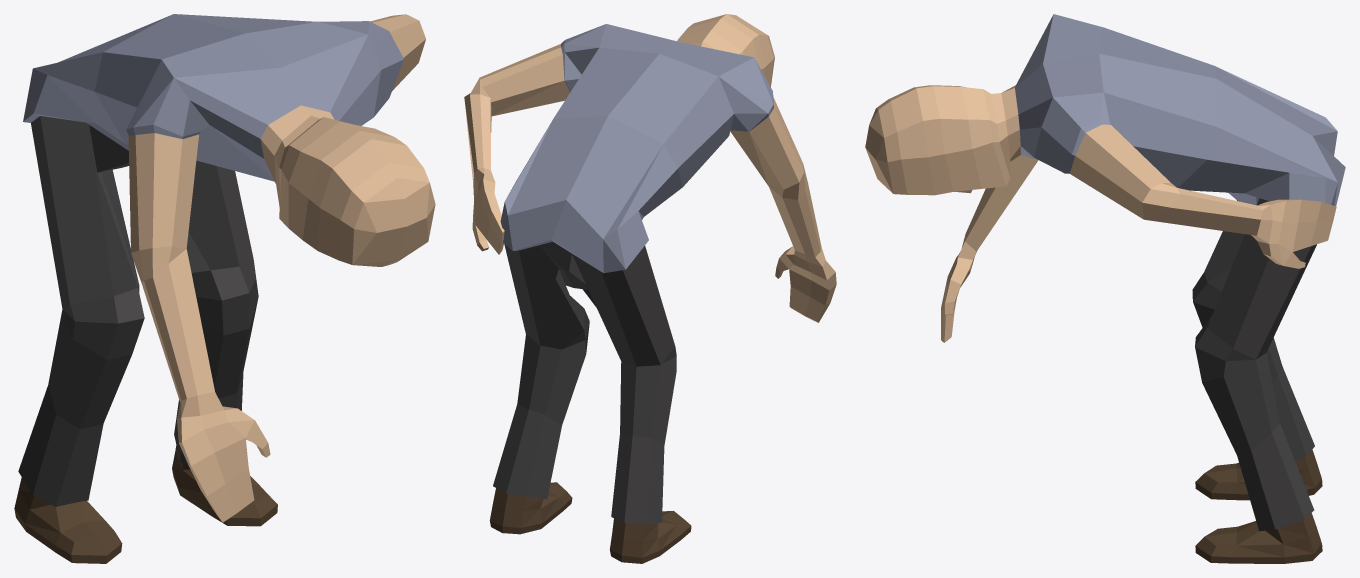
File: ceset.glb
The picture shows the model from 3 angles, left to right: view 1: azimuth 30°, elevation 25°; view 2: azimuth 150°, elevation 25°; view 3: azimuth 270°, elevation 25°; orthographic projection. The views are drawn at different scales.
Parts seen in each view (by area): view 1: Male_PickingUp; view 2: Male_PickingUp; view 3: Male_PickingUp.
Boxes of the visible parts, left/top/right/bottom form: Male_PickingUp: left=14, top=14, right=435, bottom=563; Male_PickingUp: left=464, top=14, right=836, bottom=563; Male_PickingUp: left=865, top=14, right=1345, bottom=563.
Size of the model in its own units: 1.59 by 2.33 by 2.16.
